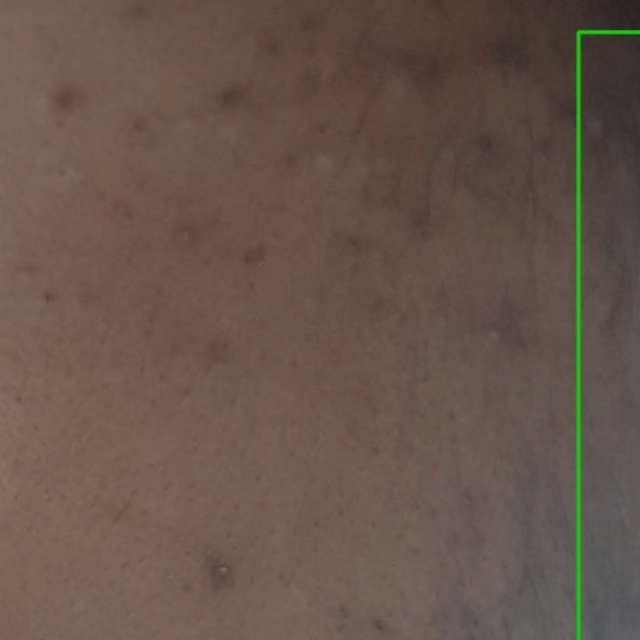Seborrheic Dermatitis: (578, 32, 639, 639)
